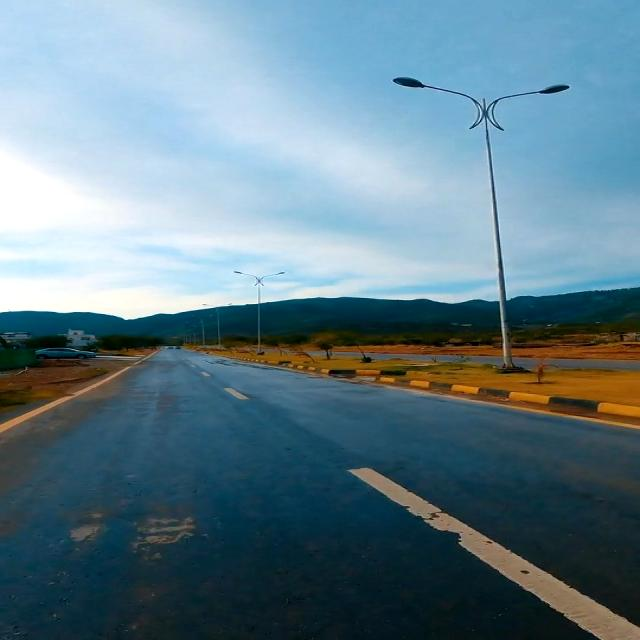lane: (348, 468, 639, 639)
road: (2, 350, 636, 639)
